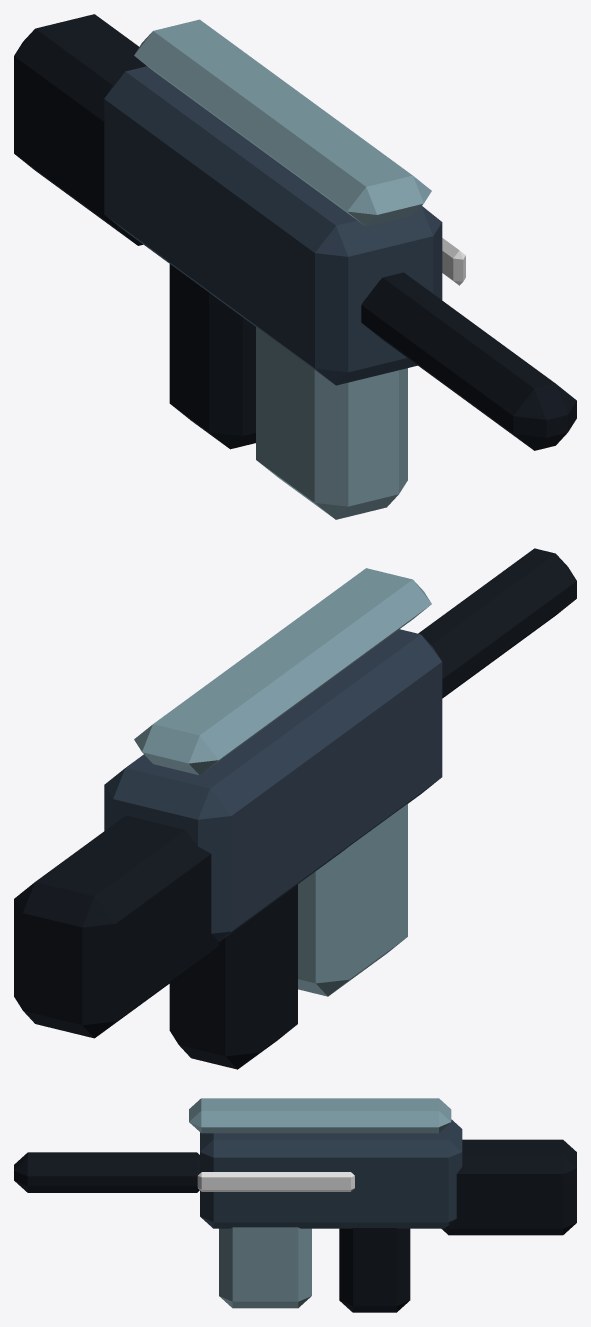
The model's file is Vanguard.fbx.
3 renders of one model, top to bottom at view 1: azimuth 30°, elevation 25°; view 2: azimuth 150°, elevation 25°; view 3: azimuth 270°, elevation 25°, orthographic. The views are drawn at different scales.
Parts seen in each view (by area): view 1: Vanguard_Mesh; view 2: Vanguard_Mesh; view 3: Vanguard_Mesh.
Part boxes in pixels (bbox=[...]): Vanguard_Mesh: bbox=[14, 14, 576, 519]; Vanguard_Mesh: bbox=[14, 548, 576, 1069]; Vanguard_Mesh: bbox=[14, 1098, 576, 1312].
Bounding box in the file's own units: 16.55 × 40.75 × 103.
